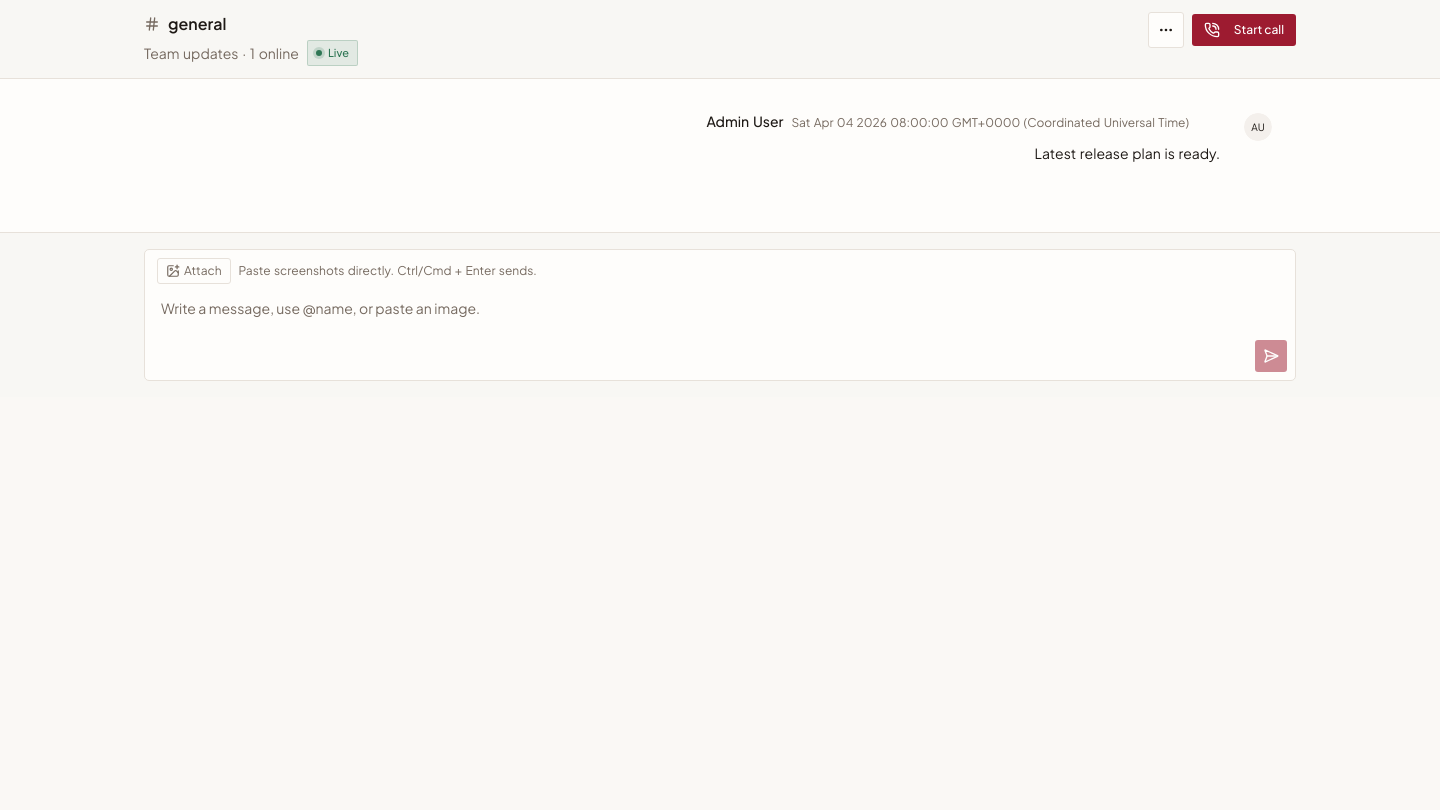
Test: ChatShell › replaces the pending microphone banner with the latest voice runtime error
What coordinates should you click on to do the following:
click the button "Start call"
I would click on:
 (1244, 30)
Its box is [1192,14,1296,46].
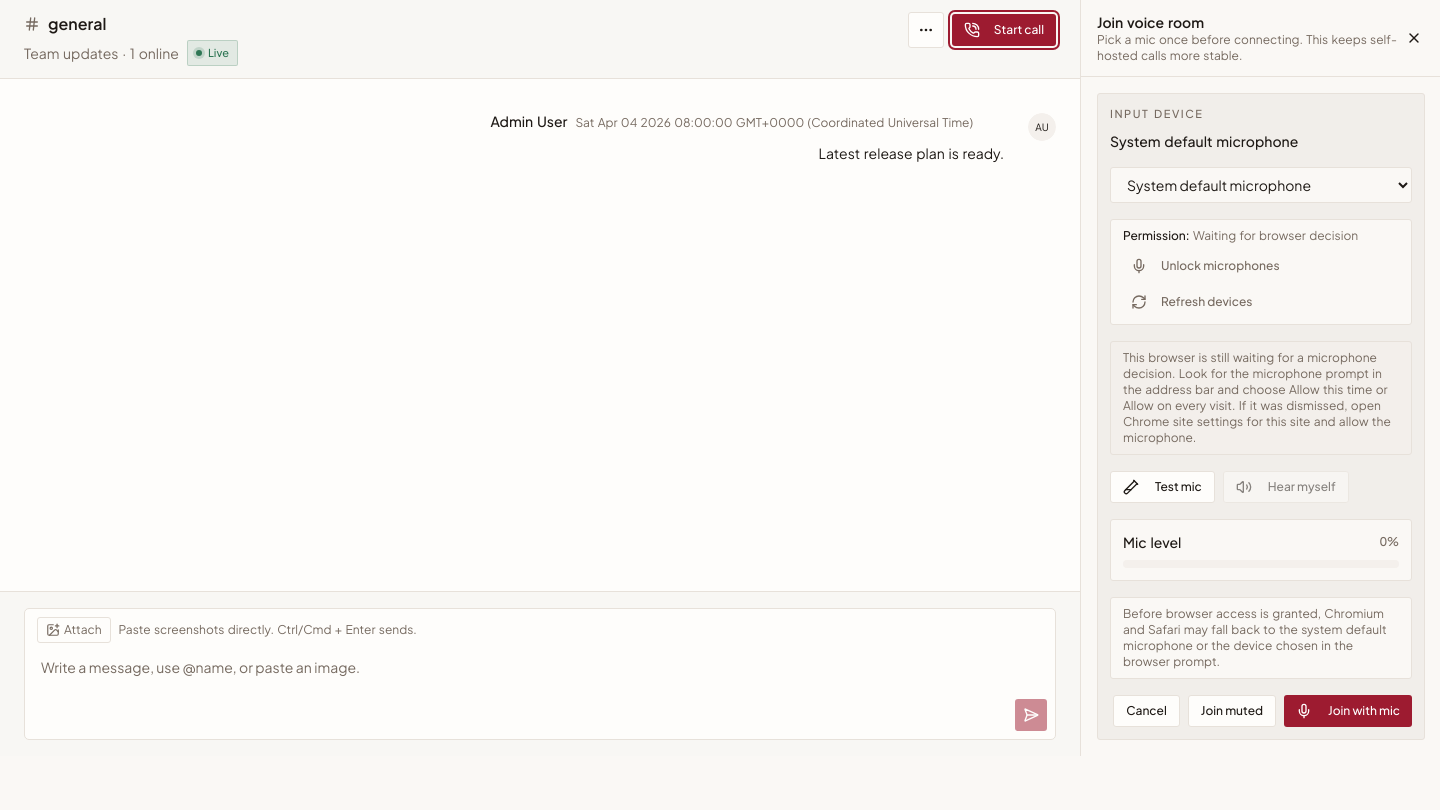
What coordinates should you click on to do the following:
click the button "Join with mic"
I would click on:
 (1348, 710)
Its box is [1284,694,1412,726].
Wait 8100 ms
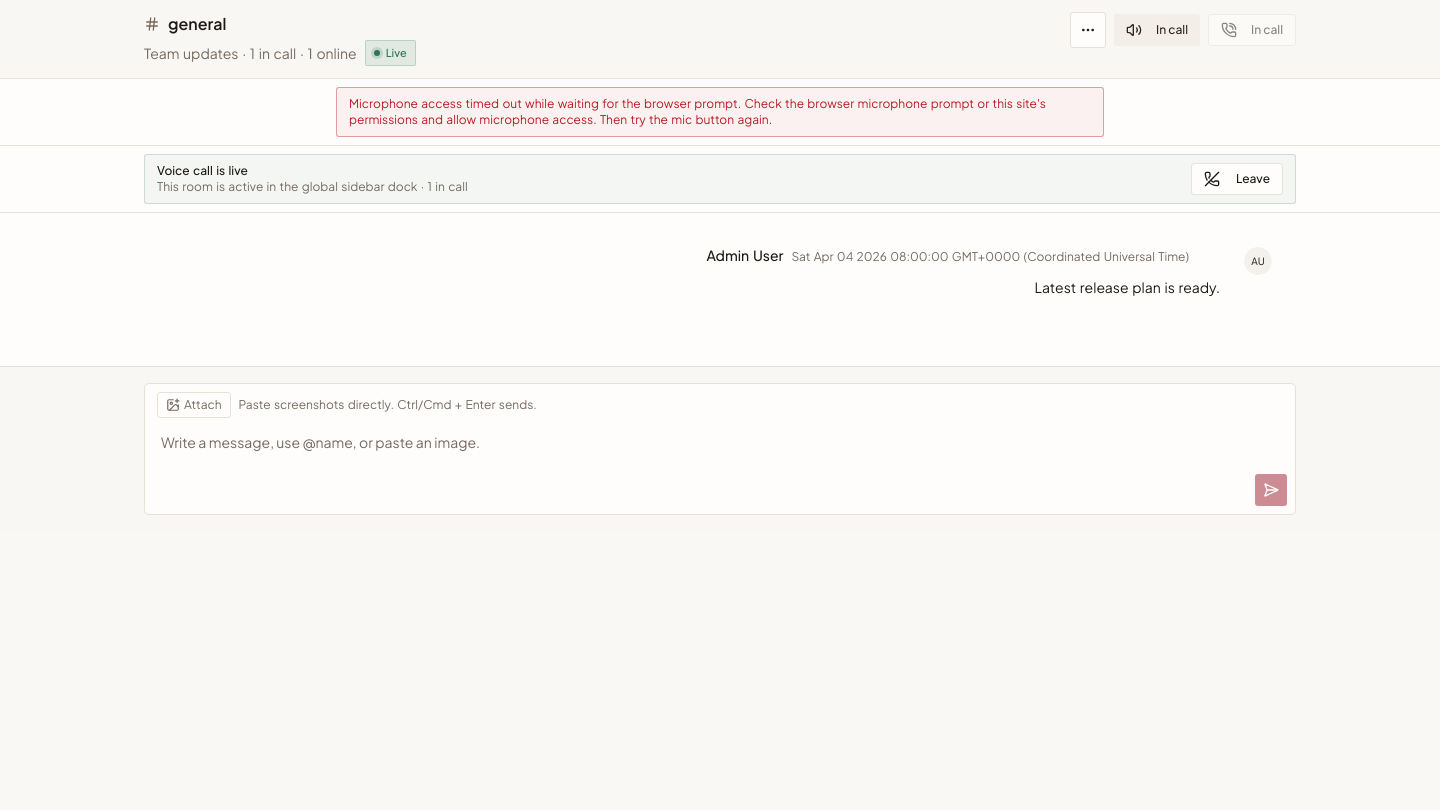
Check: the text "joined muted while the browser finishes microphone access" is shown, box [336,87,1104,137]
Check: the text "Microphone access timed out while waiting for the browser prompt" is shown, box [349,96,1046,127]
